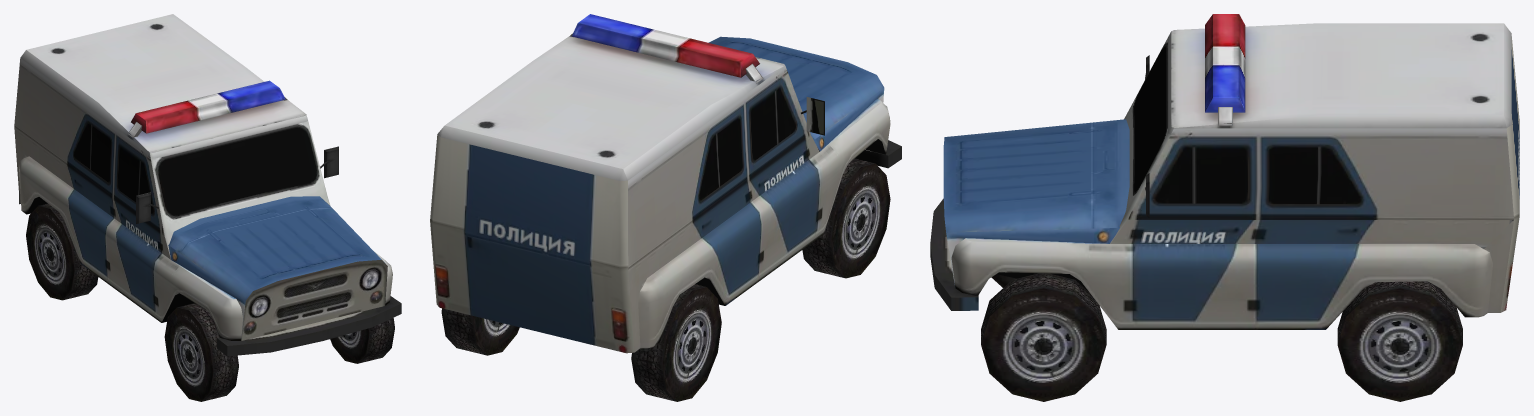
Rendered from police_offroad.glb.
The picture shows the model from 3 angles, left to right: view 1: azimuth 30°, elevation 25°; view 2: azimuth 150°, elevation 25°; view 3: azimuth 270°, elevation 25°; orthographic projection. The views are drawn at different scales.
Parts seen in each view (by area): view 1: Body; view 2: Body; view 3: Body.
Boxes of the visible parts, x1=… form: Body: x1=14, y1=14, x2=401, y2=401; Body: x1=430, y1=14, x2=901, y2=401; Body: x1=930, y1=14, x2=1519, y2=401.
Bounding box in the file's own units: 1.96 × 2.08 × 3.84.
Materials: 3 (2 with a texture image).
